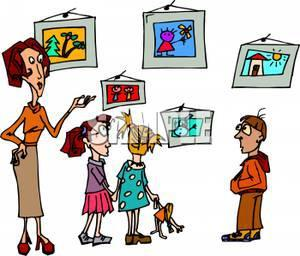person: (1, 37, 92, 255), (118, 109, 169, 248), (222, 111, 276, 242), (64, 113, 114, 247), (153, 198, 183, 241)
